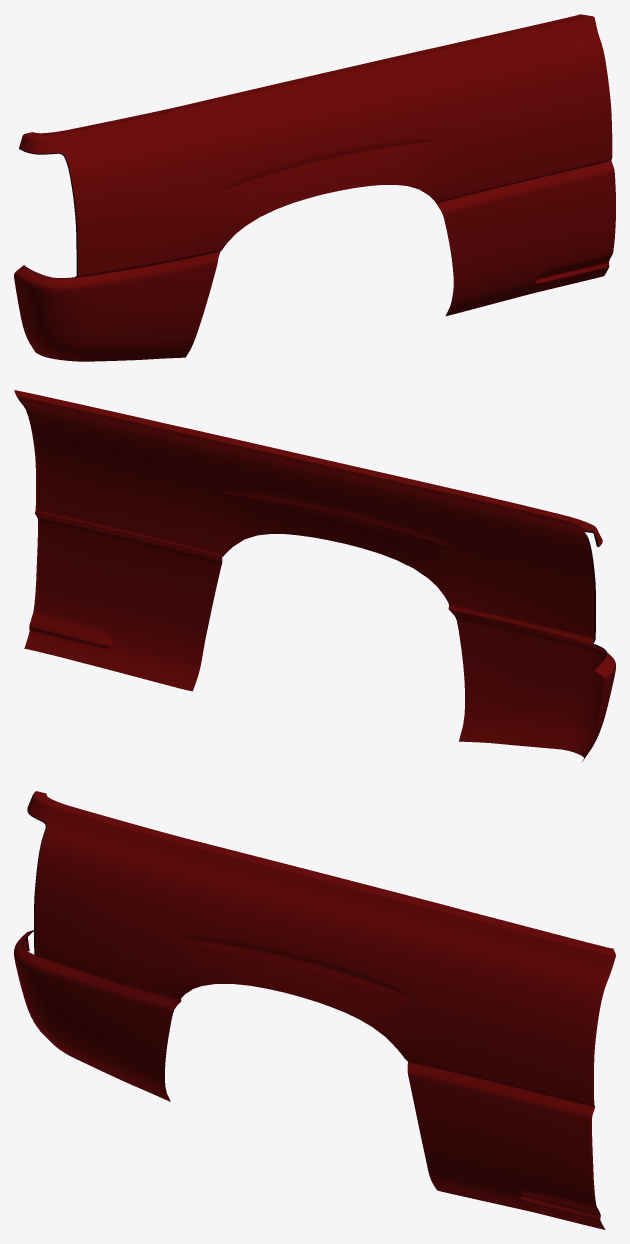
3 renders of one model, top to bottom at view 1: azimuth 30°, elevation 25°; view 2: azimuth 150°, elevation 25°; view 3: azimuth 330°, elevation 25°, orthographic. The views are drawn at different scales.
Parts seen in each view (by area): view 1: U805_4A_38AL_R_U805_4A_38AL_R_1_DaS, U805_4A_38AL_R_U805_4A_38AL_R_1_DaS_E; view 2: U805_4A_38AL_R_U805_4A_38AL_R_1_DaS, U805_4A_38AL_R_U805_4A_38AL_R_1_DaS_E; view 3: U805_4A_38AL_R_U805_4A_38AL_R_1_DaS, U805_4A_38AL_R_U805_4A_38AL_R_1_DaS_E.
Part boxes in pixels (x1=…): U805_4A_38AL_R_U805_4A_38AL_R_1_DaS: x1=14, y1=14, x2=614, y2=361; U805_4A_38AL_R_U805_4A_38AL_R_1_DaS_E: x1=23, y1=16, x2=615, y2=278; U805_4A_38AL_R_U805_4A_38AL_R_1_DaS: x1=14, y1=390, x2=615, y2=761; U805_4A_38AL_R_U805_4A_38AL_R_1_DaS_E: x1=17, y1=396, x2=605, y2=695; U805_4A_38AL_R_U805_4A_38AL_R_1_DaS: x1=14, y1=791, x2=615, y2=1229; U805_4A_38AL_R_U805_4A_38AL_R_1_DaS_E: x1=25, y1=791, x2=615, y2=1229.
Size of the model in its own units: 189 by 83.74 by 19.89.
